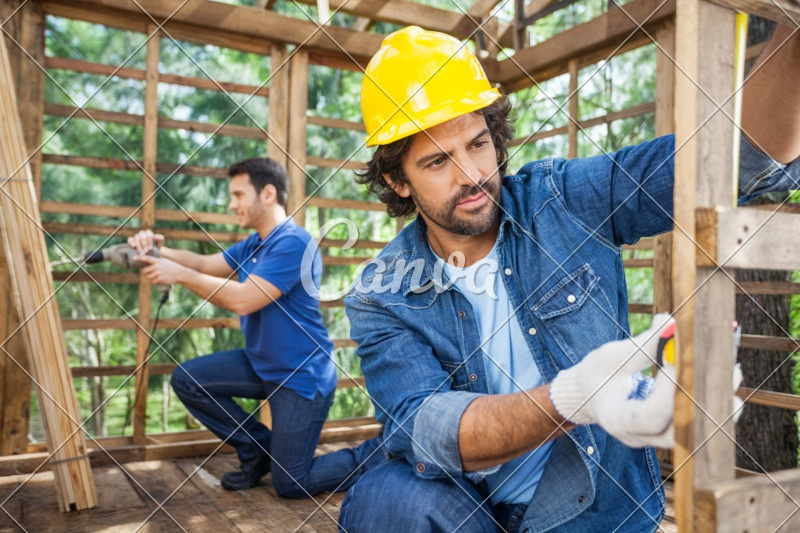none: (227, 157, 289, 228)
yellow: (362, 31, 505, 237)
